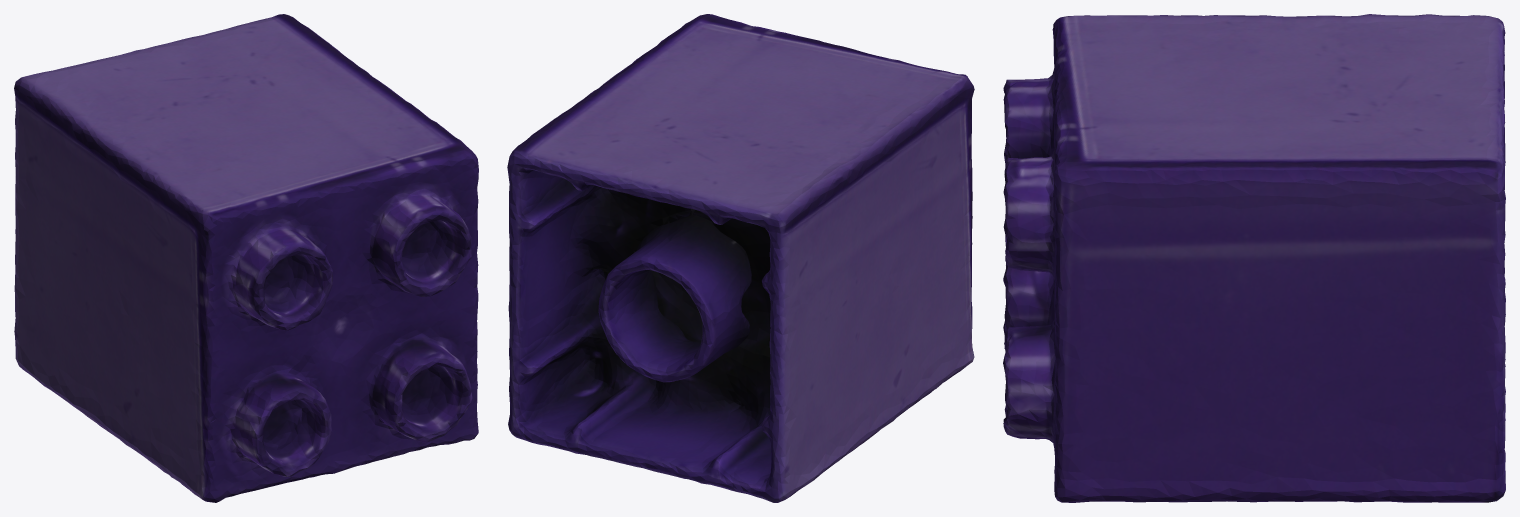
Rendered from b_lego_duplo.glb.
3 views of the same model, side by side, from view 1: azimuth 30°, elevation 25°; view 2: azimuth 150°, elevation 25°; view 3: azimuth 270°, elevation 25° (orthographic). The views are drawn at different scales.
Parts seen in each view (by area): view 1: textured.obj; view 2: textured.obj; view 3: textured.obj.
Boxes of the visible parts, left/top/right/bottom form: textured.obj: left=14, top=14, right=478, bottom=502; textured.obj: left=507, top=14, right=974, bottom=502; textured.obj: left=1003, top=14, right=1505, bottom=502.
Size of the model in its own units: 0.0323 by 0.0322 by 0.0432.
Materials: 1 (1 with a texture image).
